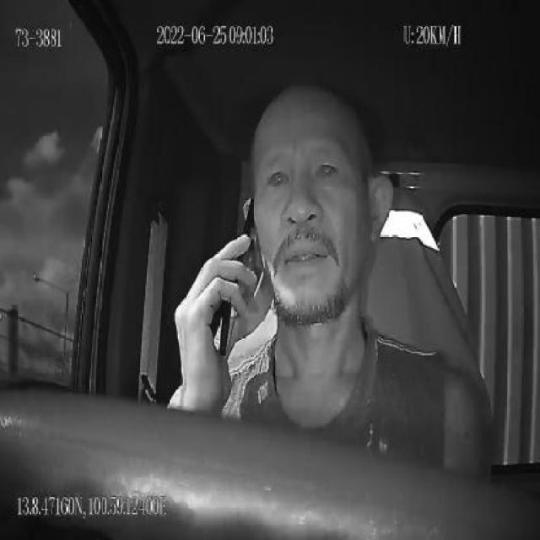phone: (218, 193, 256, 357)
